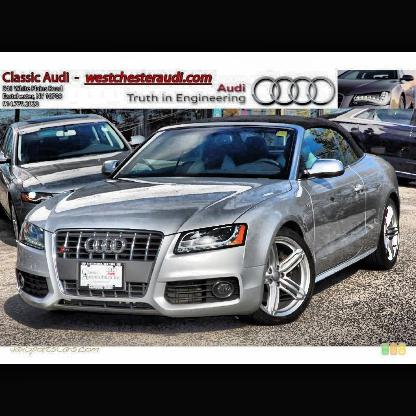Audi S5 Convertible 2012: (16, 126, 402, 325)
